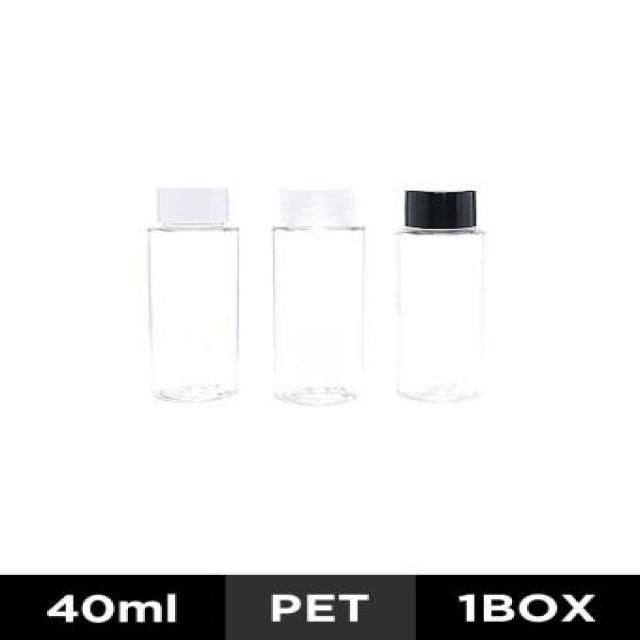bottle: (132, 185, 246, 403), (269, 191, 378, 405), (398, 188, 490, 405)
